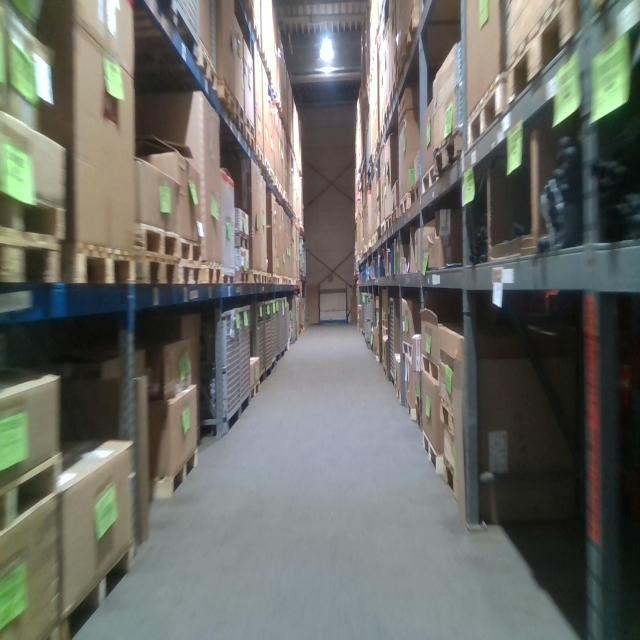pallet: (507, 0, 581, 108), (60, 542, 138, 640), (0, 449, 64, 536), (0, 224, 69, 289), (0, 180, 69, 239), (466, 66, 510, 151), (65, 241, 138, 288), (150, 447, 200, 500), (135, 223, 181, 261), (435, 129, 463, 180), (136, 255, 178, 288), (196, 39, 219, 96), (421, 429, 444, 477), (403, 6, 420, 60), (217, 78, 237, 123), (438, 397, 458, 436), (176, 261, 203, 288), (420, 353, 441, 386), (178, 237, 203, 261), (201, 260, 224, 285), (421, 164, 437, 196), (232, 111, 245, 137), (244, 112, 256, 140), (404, 396, 417, 421), (399, 191, 410, 219), (244, 127, 256, 152), (252, 17, 261, 49), (401, 341, 413, 364), (234, 231, 249, 249), (390, 74, 397, 110), (235, 96, 245, 120), (410, 183, 420, 207), (236, 269, 251, 284), (250, 379, 261, 399), (256, 142, 264, 165), (385, 97, 391, 127), (391, 206, 399, 226), (251, 269, 262, 283), (393, 382, 401, 401), (224, 271, 236, 283), (385, 215, 392, 232), (380, 121, 385, 143), (264, 157, 270, 175), (375, 131, 379, 153), (380, 220, 385, 237), (261, 271, 267, 284), (266, 273, 272, 284)
stillage: (200, 304, 240, 434), (164, 1, 199, 57), (240, 301, 254, 418), (385, 292, 400, 384), (257, 299, 264, 386), (265, 299, 272, 380), (276, 296, 282, 370), (364, 293, 371, 351), (291, 295, 298, 344), (272, 298, 276, 374), (282, 293, 286, 364), (360, 290, 365, 334), (285, 294, 288, 360)
